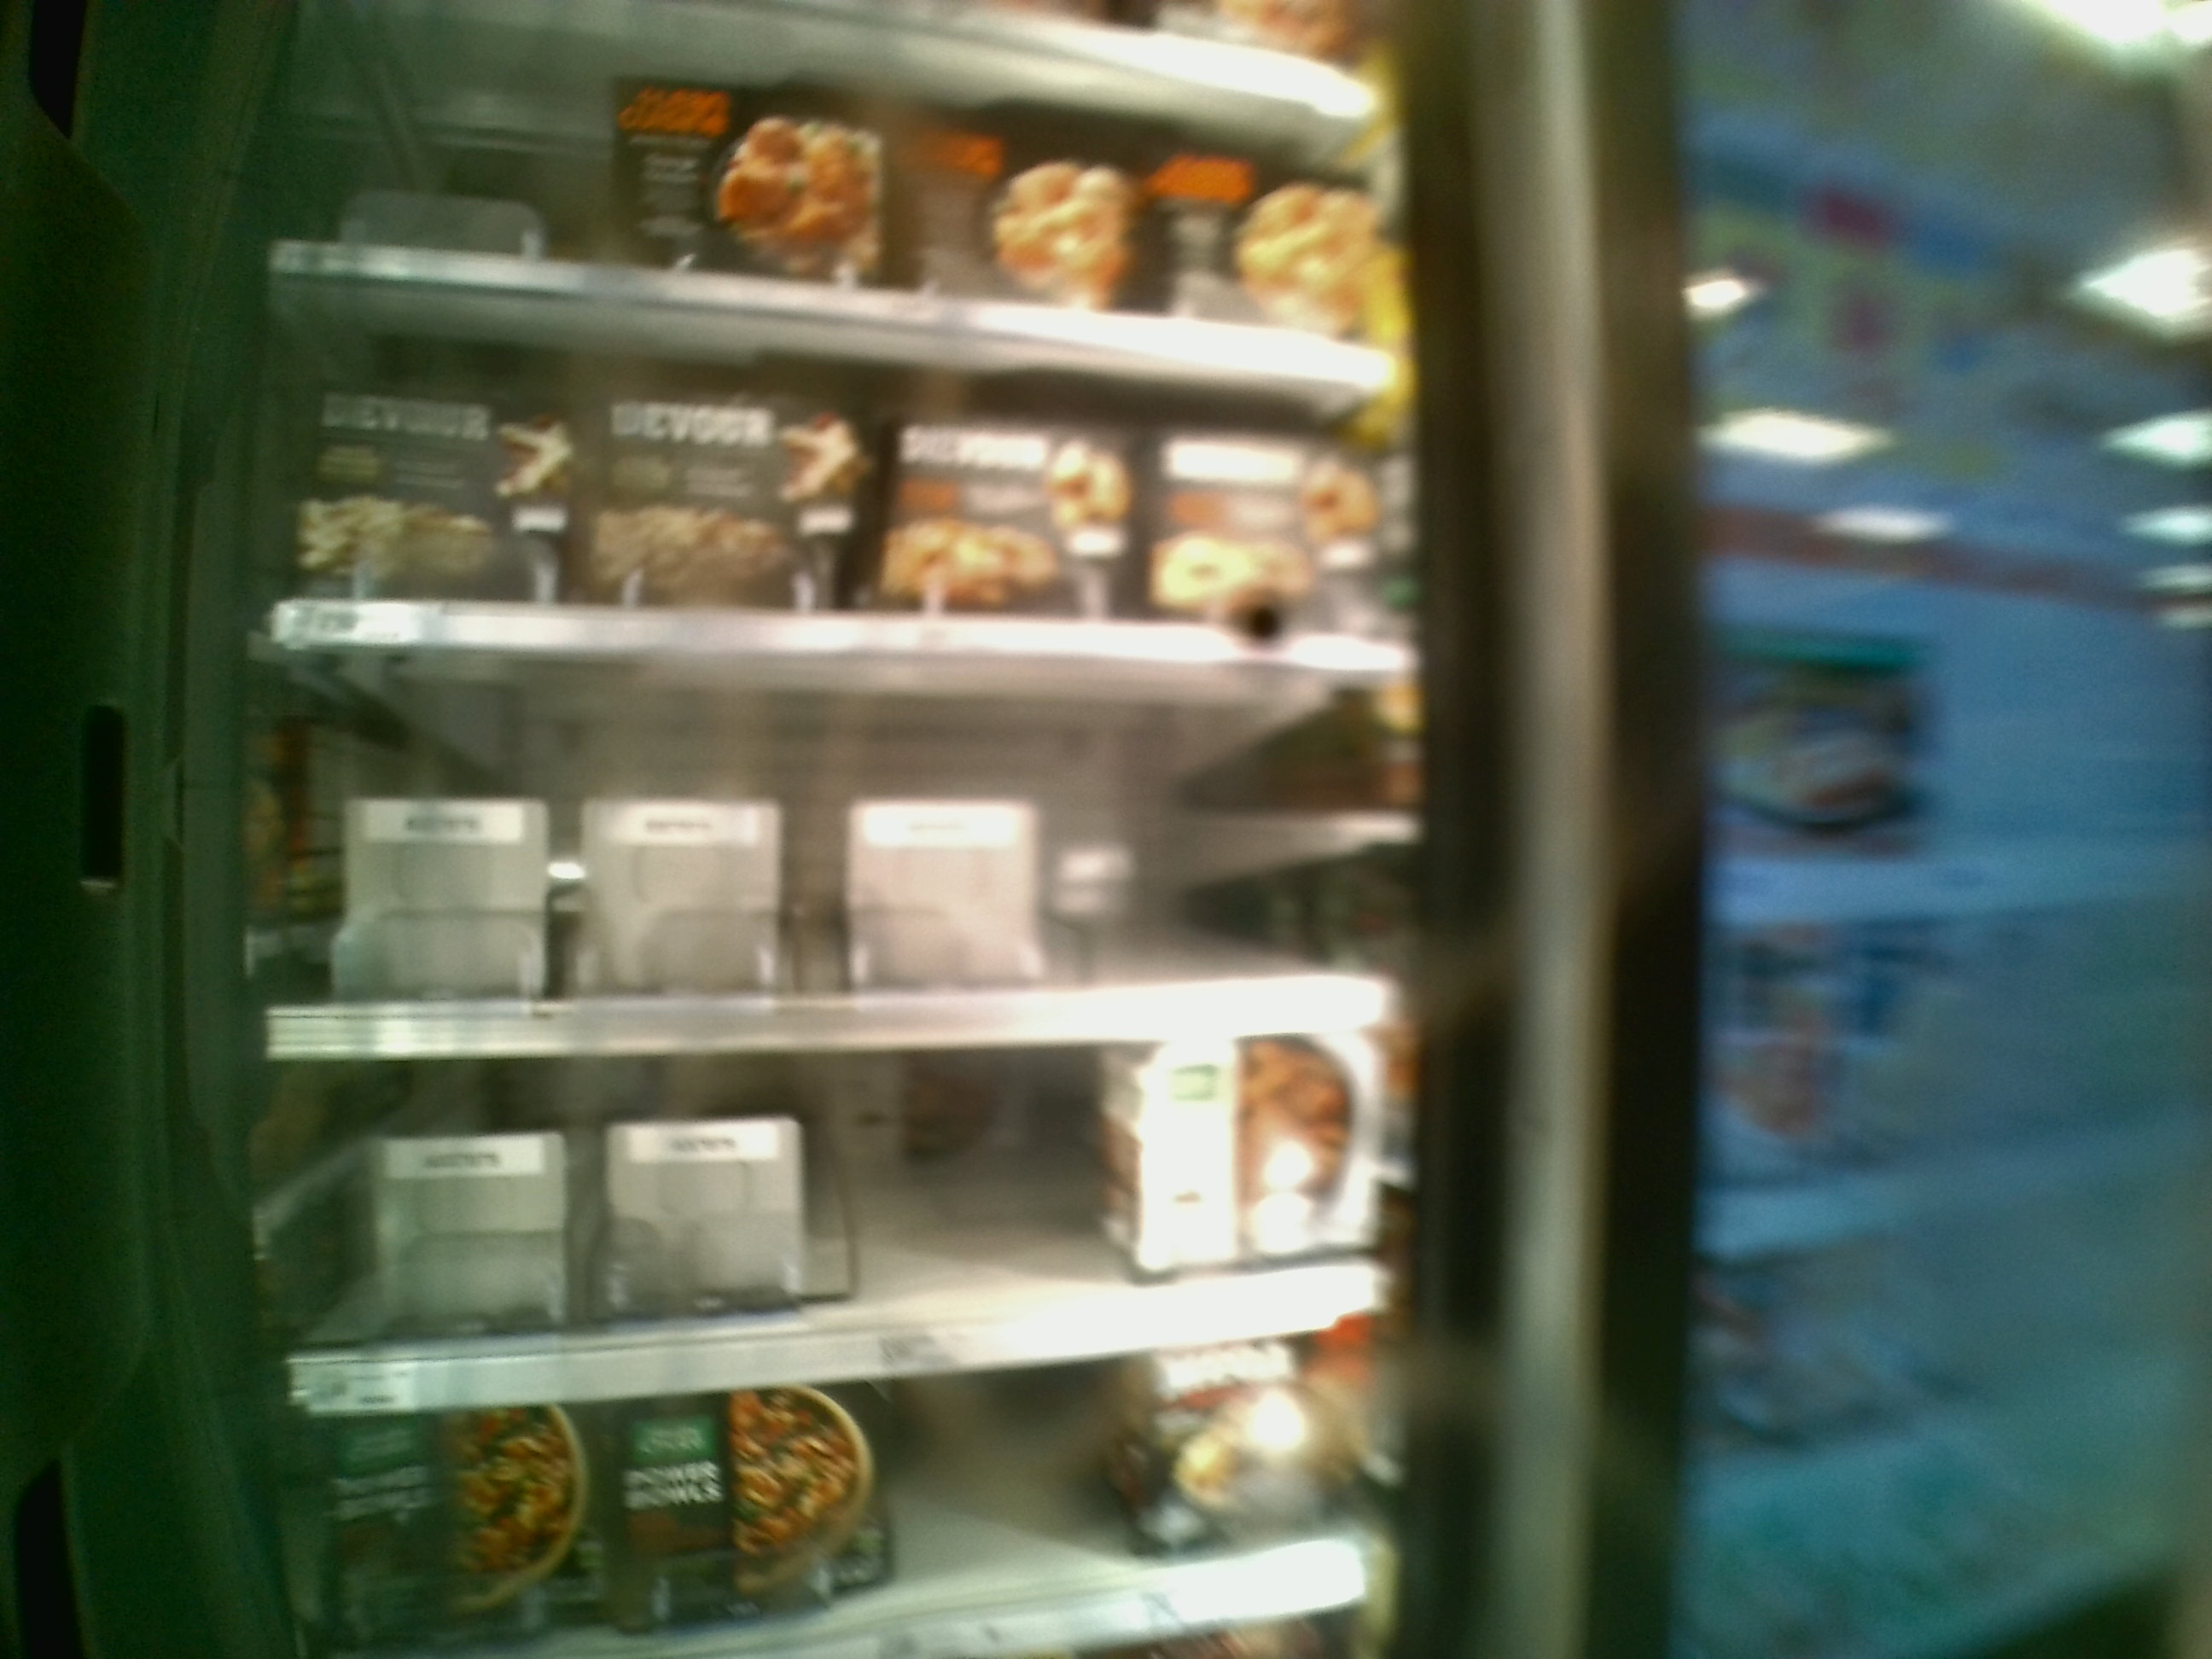Shelf: (254, 647, 1411, 1058), (258, 1023, 1406, 1422), (268, 261, 1404, 664)
